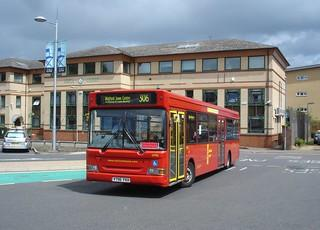bus: (87, 86, 242, 193)
car: (1, 126, 30, 153)
